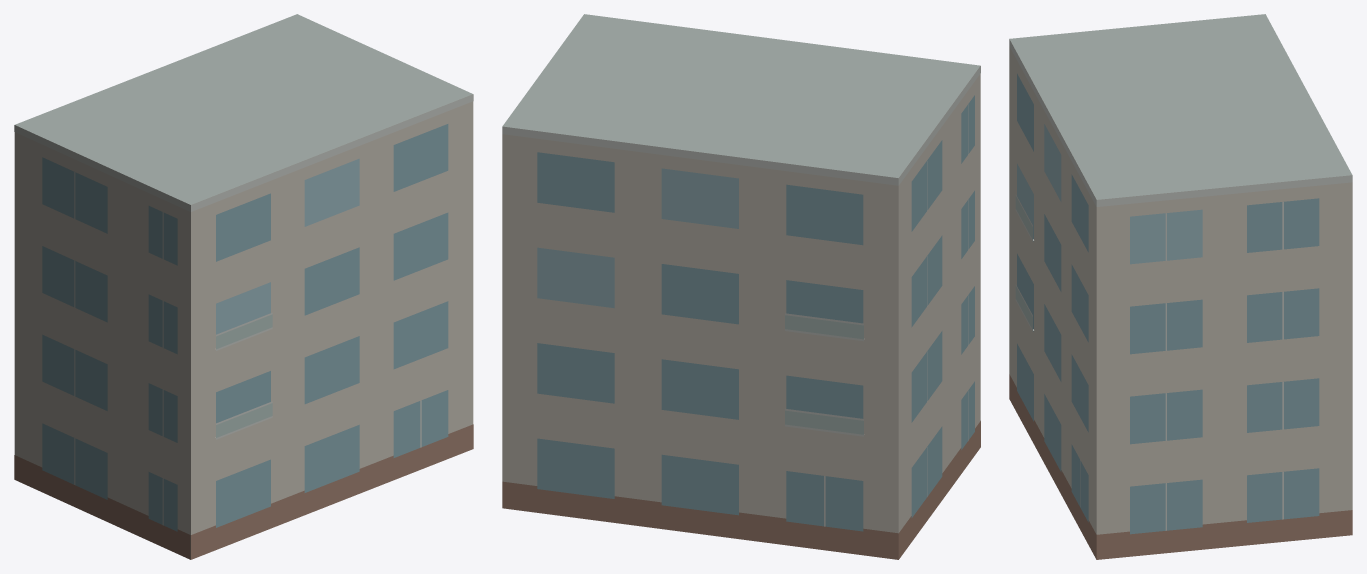
File: residential-5524f515-c491-449c-8939-9aa1721f42ae.glb
3 renders of one model, left to right at view 1: azimuth 30°, elevation 25°; view 2: azimuth 150°, elevation 25°; view 3: azimuth 270°, elevation 25°, orthographic. The views are drawn at different scales.
Parts seen in each view (by area): view 1: residential-5524f515-c491-449c-8939-9aa1721f42ae.tmp; view 2: residential-5524f515-c491-449c-8939-9aa1721f42ae.tmp; view 3: residential-5524f515-c491-449c-8939-9aa1721f42ae.tmp.
Part boxes in pixels (bbox=[...]): residential-5524f515-c491-449c-8939-9aa1721f42ae.tmp: bbox=[14, 14, 473, 559]; residential-5524f515-c491-449c-8939-9aa1721f42ae.tmp: bbox=[502, 14, 980, 559]; residential-5524f515-c491-449c-8939-9aa1721f42ae.tmp: bbox=[1009, 14, 1352, 559].
Size of the model in its own units: 13.52 by 12.2 by 10.55.
